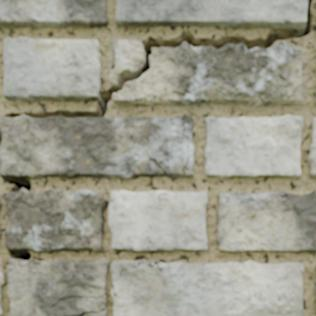brick: (0, 115, 193, 178), (113, 261, 303, 315), (5, 190, 106, 252), (4, 38, 100, 101), (205, 116, 302, 178), (218, 191, 315, 252), (109, 191, 206, 250), (8, 259, 108, 315), (116, 0, 306, 27), (0, 0, 107, 27), (111, 261, 137, 277), (308, 118, 315, 177), (0, 258, 5, 314), (85, 309, 106, 315)
broken_brick: (112, 41, 302, 107), (108, 38, 141, 85)
crack: (2, 0, 313, 119), (110, 261, 164, 297), (136, 139, 167, 174), (52, 293, 105, 306), (0, 172, 31, 192), (62, 308, 105, 315), (8, 249, 31, 261), (0, 126, 2, 145)
